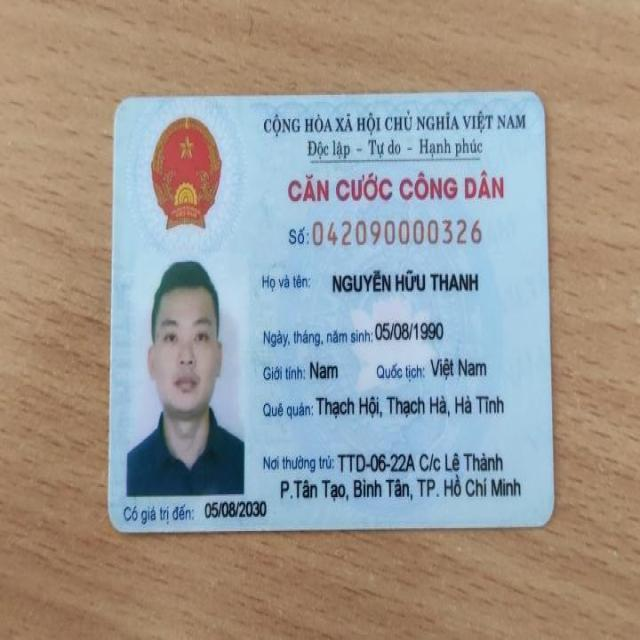bottom_left: (90, 502, 134, 544)
bottom_right: (529, 495, 565, 535)
image_person: (124, 259, 250, 494)
top_left: (94, 92, 140, 128)
top_right: (518, 81, 553, 125)
